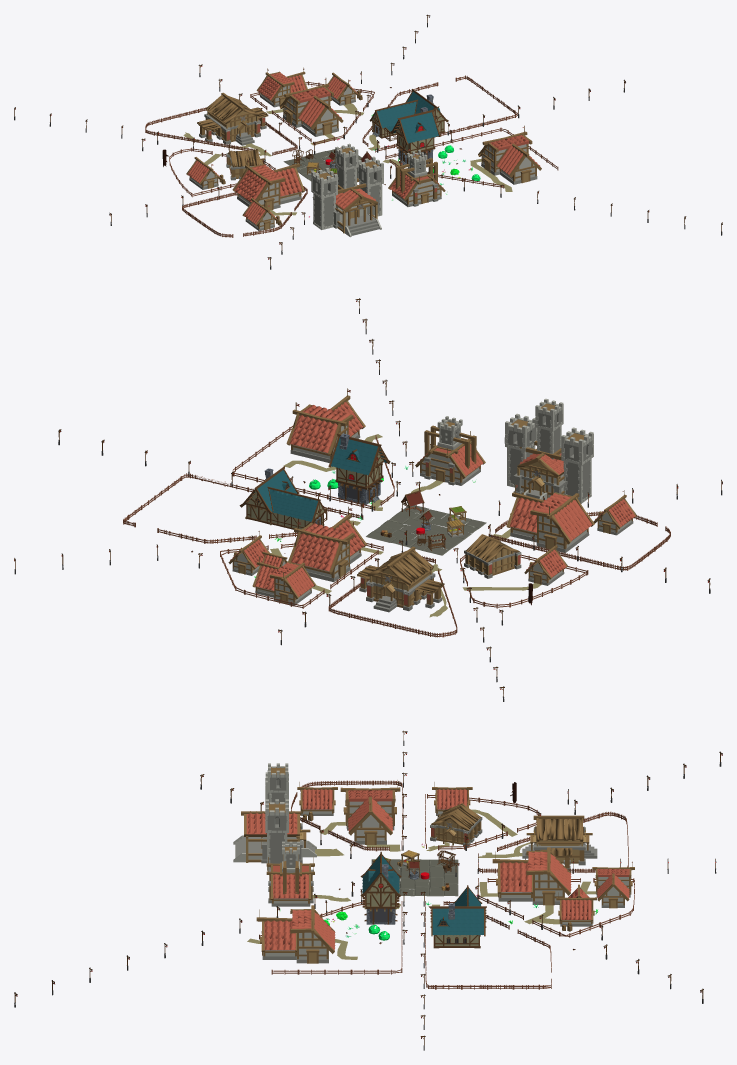
Rendered from chunk_1_1.glb.
The picture shows the model from 3 angles, top to bottom: view 1: azimuth 30°, elevation 25°; view 2: azimuth 150°, elevation 25°; view 3: azimuth 270°, elevation 25°; orthographic projection. The views are drawn at different scales.
Visible parts, largest first — view 1: Barracks_SecondAge_Level3, Barracks_FirstAge_Level2, Houses_SecondAge_2_Level2.002, Houses_SecondAge_2_Level2, Houses_SecondAge_2_Level2.001, TowerHouse_SecondAge, House_1, Stable, Houses_SecondAge_2_Level3, Fence2_Cube.004, Fence2_Cube.024, Barracks_FirstAge_Level1 (+8 smaller); view 2: Barracks_SecondAge_Level3, Houses_SecondAge_2_Level2.002, Barracks_FirstAge_Level2, Houses_SecondAge_2_Level2.001, Stable, TowerHouse_SecondAge, Houses_SecondAge_2_Level2, House_1, Wall, Houses_SecondAge_2_Level3, Barracks_FirstAge_Level1, Fence2_Cube.024 (+8 smaller); view 3: Barracks_SecondAge_Level3, Houses_SecondAge_2_Level2, Houses_SecondAge_2_Level2.001, Houses_SecondAge_2_Level2.002, Barracks_FirstAge_Level2, Stable, TowerHouse_SecondAge, House_1, Wall, Barracks_FirstAge_Level1, Houses_SecondAge_2_Level3, Houses_SecondAge_1_Level2.001 (+8 smaller).
Part boxes in pixels (<box>): Barracks_SecondAge_Level3: <box>311,143,383,237</box>; Barracks_FirstAge_Level2: <box>197,92,268,145</box>; Houses_SecondAge_2_Level2.002: <box>232,157,304,210</box>; Houses_SecondAge_2_Level2: <box>478,125,541,184</box>; Houses_SecondAge_2_Level2.001: <box>279,78,343,136</box>; TowerHouse_SecondAge: <box>388,146,445,206</box>; House_1: <box>390,107,440,164</box>; Stable: <box>369,89,448,141</box>; Houses_SecondAge_2_Level3: <box>256,67,331,107</box>; Fence2_Cube.004: <box>145,107,297,155</box>; Fence2_Cube.024: <box>362,75,517,152</box>; Barracks_FirstAge_Level1: <box>226,149,264,180</box>; Barracks_SecondAge_Level3: <box>504,398,593,503</box>; Houses_SecondAge_2_Level2.002: <box>506,484,594,552</box>; Barracks_FirstAge_Level2: <box>357,546,444,612</box>; Houses_SecondAge_2_Level2.001: <box>288,506,367,582</box>; Stable: <box>239,466,327,529</box>; TowerHouse_SecondAge: <box>415,416,485,485</box>; Houses_SecondAge_2_Level2: <box>286,388,365,462</box>; House_1: <box>328,433,390,504</box>; Wall: <box>366,505,486,555</box>; Houses_SecondAge_2_Level3: <box>252,551,315,605</box>; Barracks_FirstAge_Level1: <box>464,534,521,578</box>; Fence2_Cube.024: <box>123,473,363,543</box>; Barracks_SecondAge_Level3: <box>233,763,316,870</box>; Houses_SecondAge_2_Level2: <box>256,905,335,963</box>; Houses_SecondAge_2_Level2.001: <box>492,847,571,905</box>; Houses_SecondAge_2_Level2.002: <box>340,780,400,844</box>; Barracks_FirstAge_Level2: <box>522,815,597,871</box>; Stable: <box>428,885,486,948</box>; TowerHouse_SecondAge: <box>266,841,314,906</box>; House_1: <box>360,851,401,924</box>; Wall: <box>371,859,458,896</box>; Barracks_FirstAge_Level1: <box>430,803,482,846</box>; Houses_SecondAge_2_Level3: <box>568,861,634,908</box>; Houses_SecondAge_1_Level2.001: <box>556,892,596,931</box>.
Size of the model in its own units: 173 by 26.45 by 170.
